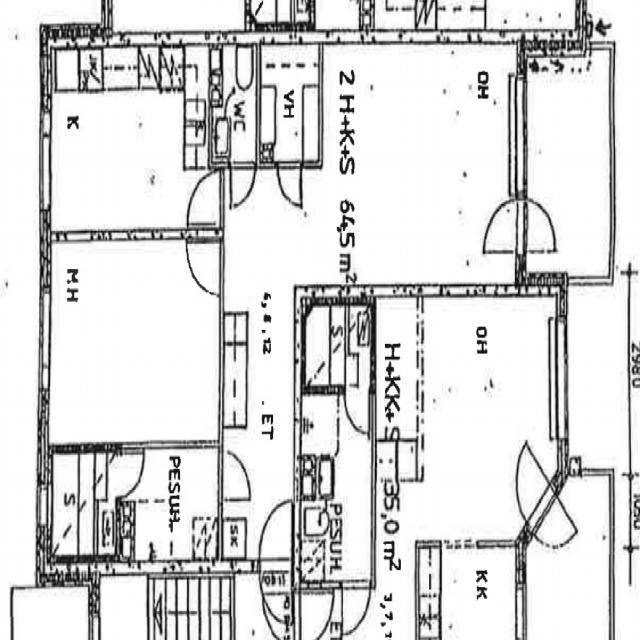door: (516, 199, 558, 252), (485, 199, 526, 252), (260, 506, 290, 574), (260, 559, 290, 626), (187, 242, 223, 296), (187, 172, 223, 224), (218, 451, 251, 499), (115, 453, 146, 497), (230, 162, 256, 214), (278, 162, 300, 208)
